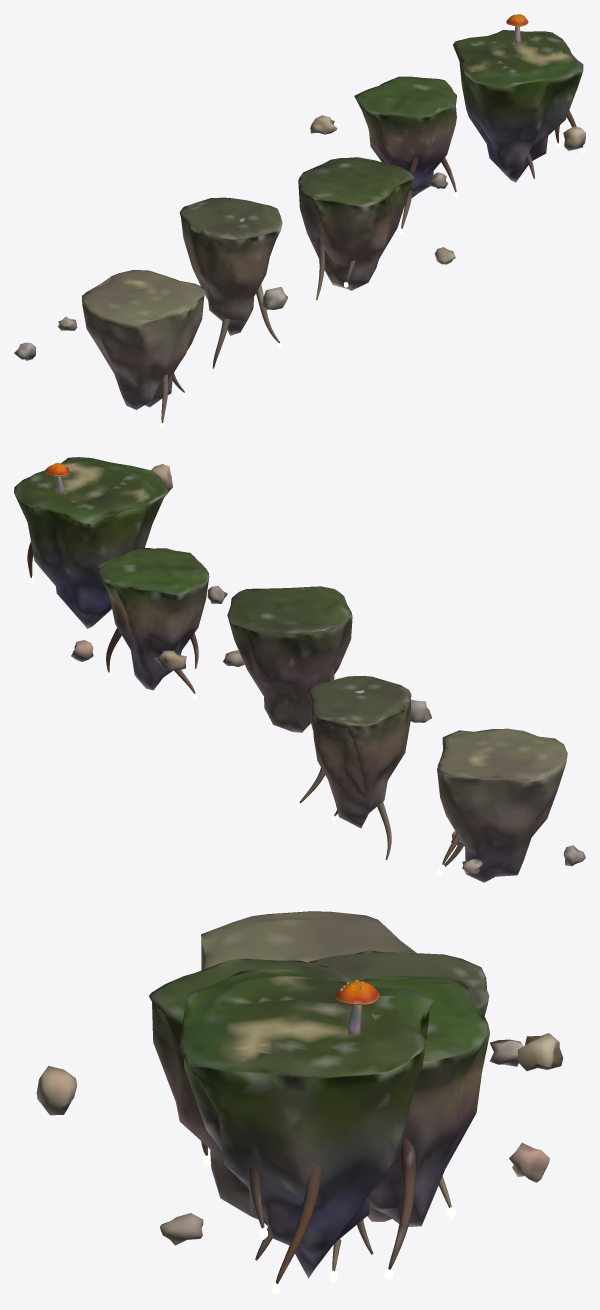
The model's file is ucan_basamak.glb.
3 renders of one model, top to bottom at view 1: azimuth 30°, elevation 25°; view 2: azimuth 150°, elevation 25°; view 3: azimuth 270°, elevation 25°, orthographic. The views are drawn at different scales.
Visible parts, largest first — view 1: ucan_basamak_LOD0; view 2: ucan_basamak_LOD0; view 3: ucan_basamak_LOD0.
Boxes of the visible parts, x1,y1,x2,y2 form: ucan_basamak_LOD0: [14, 14, 585, 428]; ucan_basamak_LOD0: [14, 457, 585, 882]; ucan_basamak_LOD0: [36, 911, 562, 1295].
Size of what is drawn, in the model's own units: 8.24 by 4.33 by 3.5.
